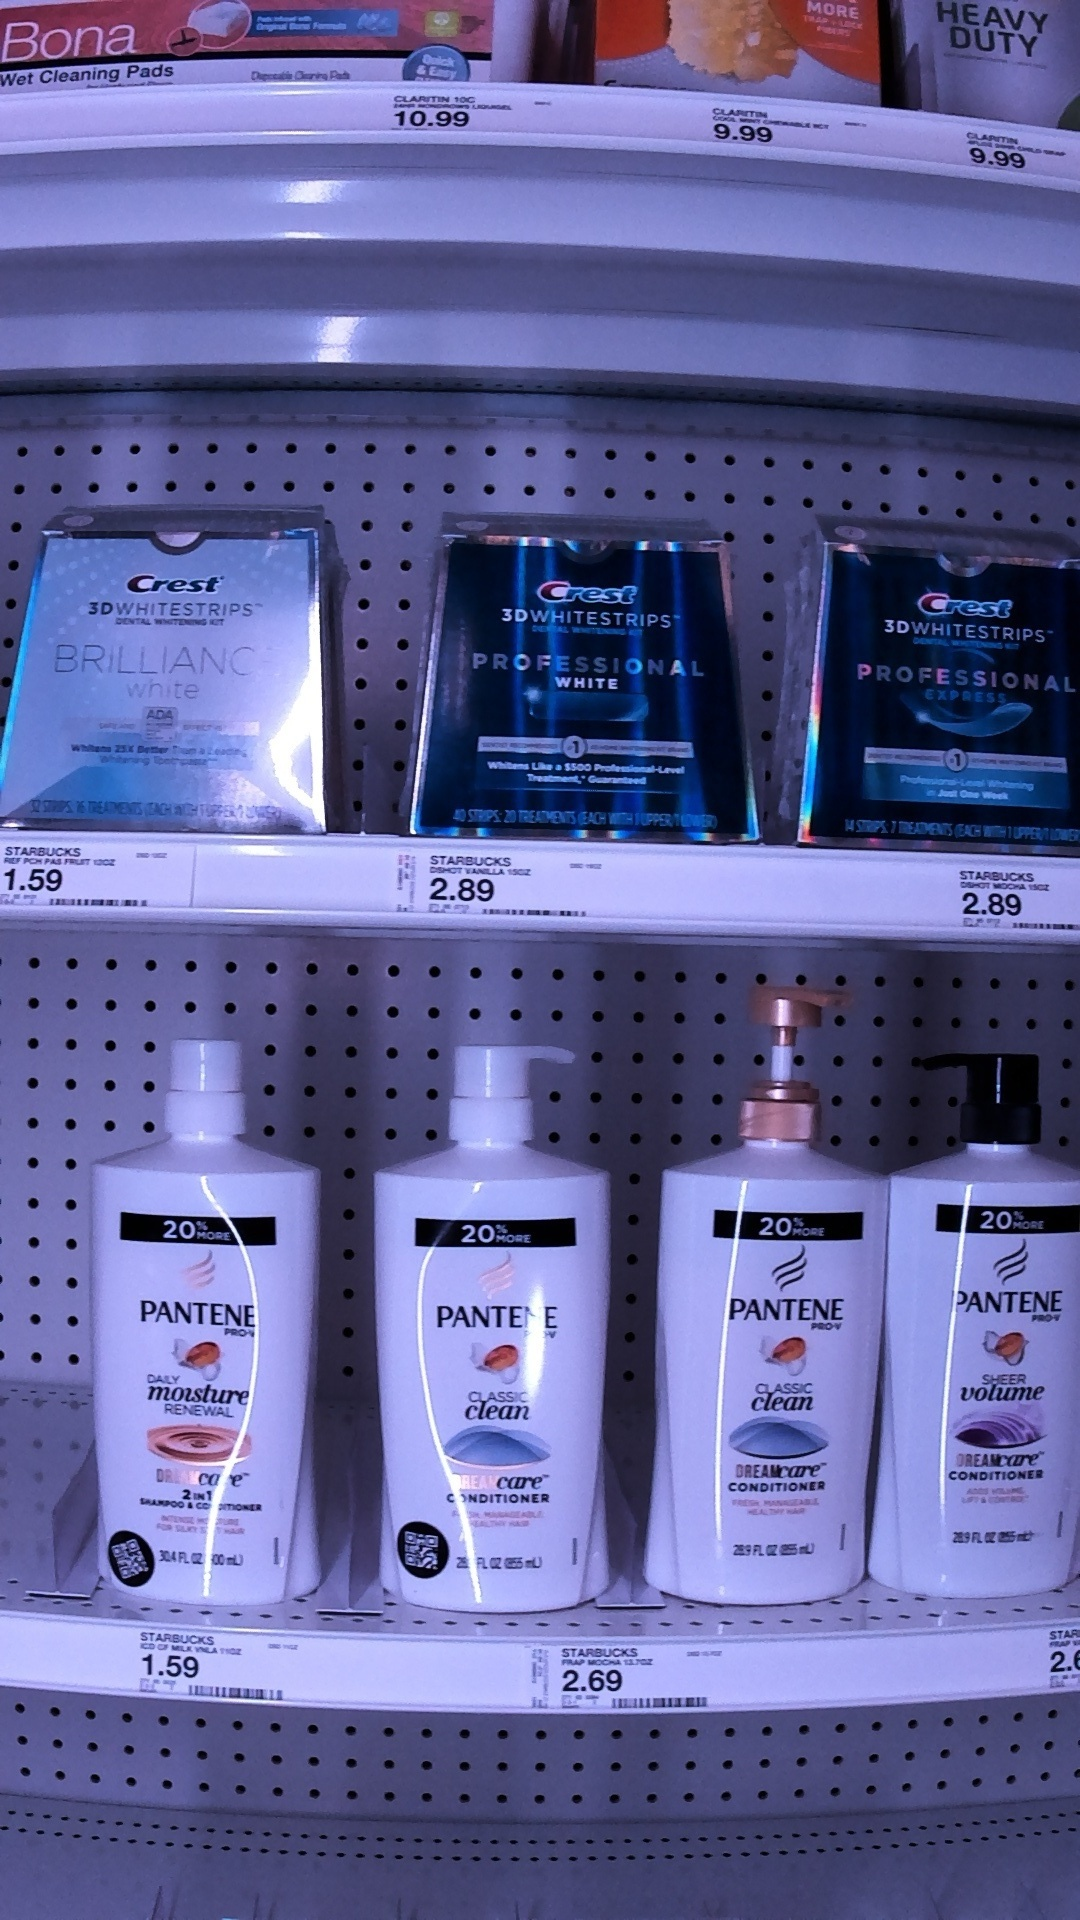ptag: (425, 844, 618, 938), (1, 831, 191, 916), (131, 1625, 306, 1712), (551, 1635, 724, 1716), (938, 855, 1080, 942), (704, 91, 849, 164), (389, 76, 524, 146), (957, 120, 1075, 193)
